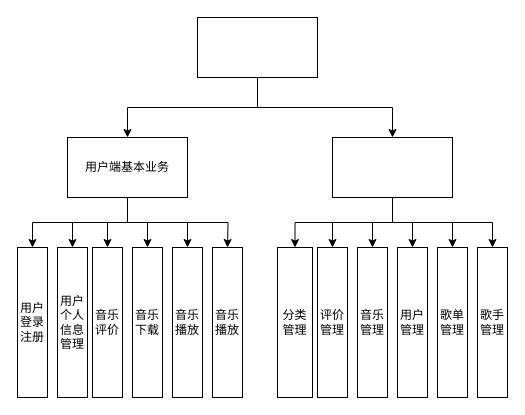
The diagram is 525 pixels wide and 415 high, and some of its shapes have lost their labels. The shapes that lost their labels are listed below. From the top down, each one's centre as x and y in pixels, then its label:
pixel 257 47: 在线音乐网站
pixel 392 167: 后台端
